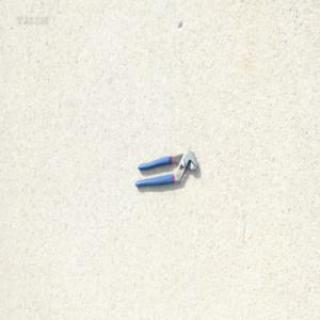Pliertrack_idkeyframe: (132, 146, 196, 186)
